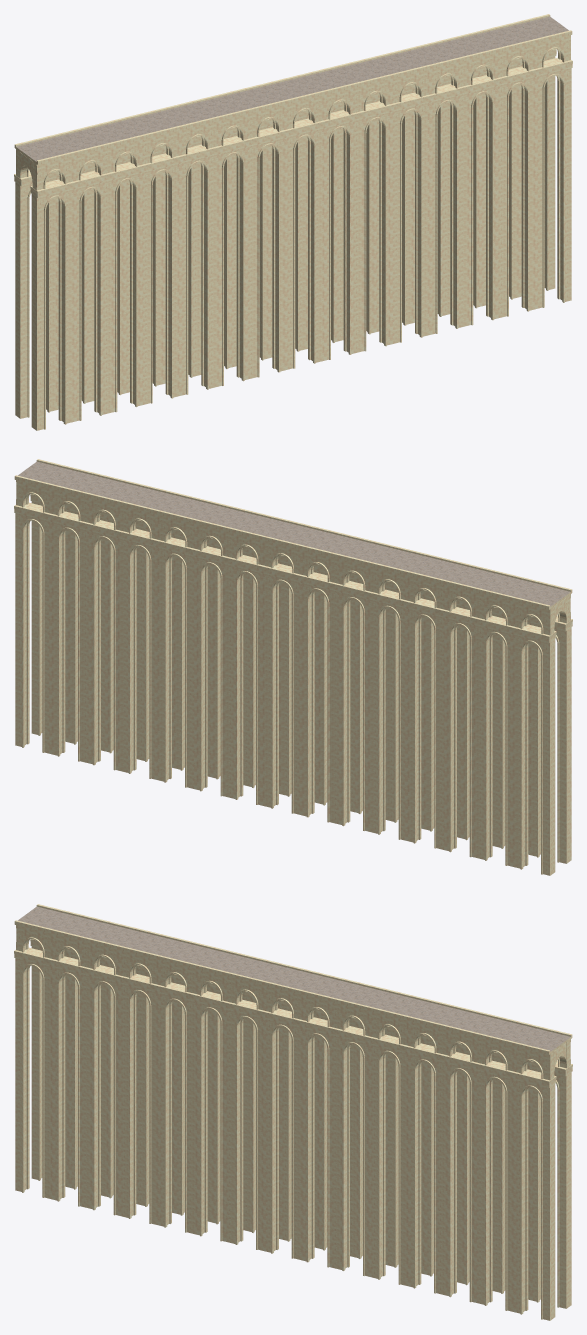
The model's file is SM_bridge_prefab.glb.
3 views of the same model, one above another, from view 1: azimuth 30°, elevation 25°; view 2: azimuth 150°, elevation 25°; view 3: azimuth 330°, elevation 25° (orthographic).
Visible parts, largest first — view 1: SM_bridge_prefab; view 2: SM_bridge_prefab; view 3: SM_bridge_prefab.
Part boxes in pixels (x1,y1,x2,y2): SM_bridge_prefab: [14, 14, 572, 430]; SM_bridge_prefab: [14, 459, 572, 875]; SM_bridge_prefab: [14, 904, 572, 1320].
Size of the model in its own units: 163 by 78.49 by 12.5.
Materials: 2 (2 with a texture image).
